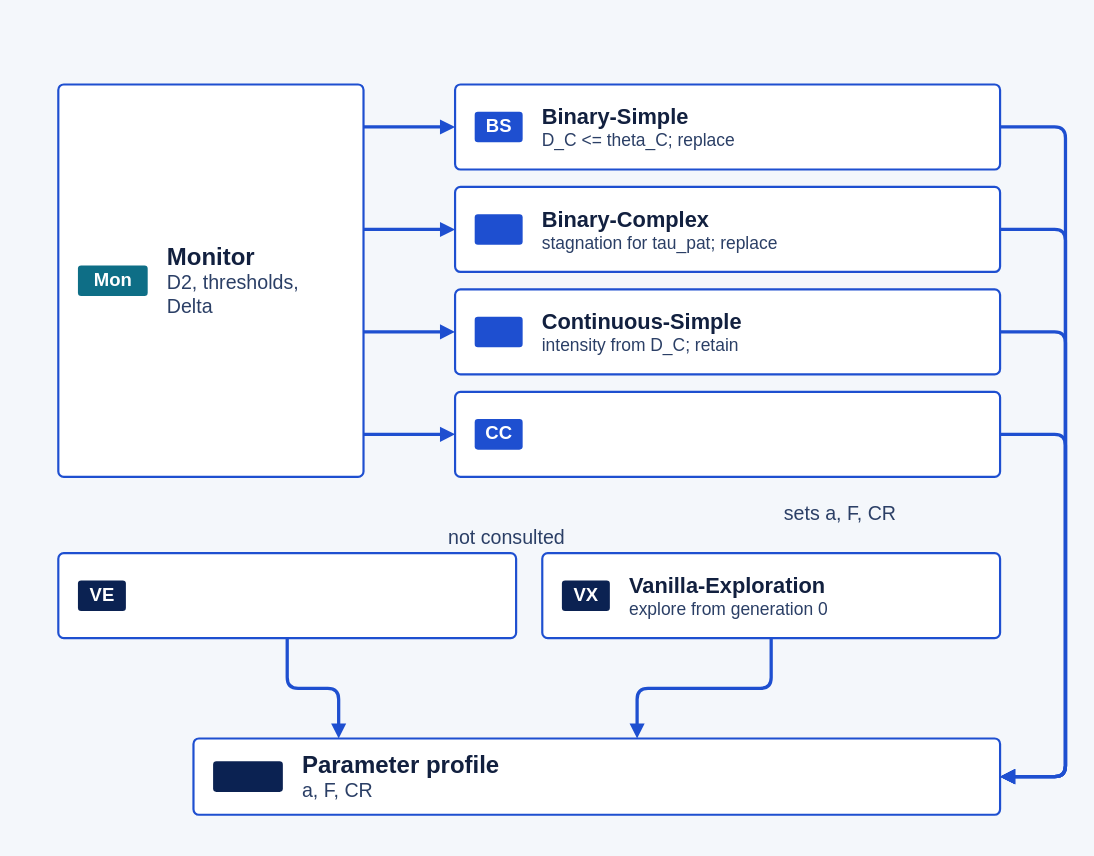
This 1094x856 diagram has some shape labels left out. The shapes that lost their labels are listed below. From the top down, each one's box as (x1, y1, x2, y2) in pixels, then its label:
(474, 214, 522, 244): BC
(474, 316, 522, 347): CS
(453, 390, 1001, 477): Continuous-Complex intensity from Delta; retain
(57, 552, 517, 639): Vanilla-Exploitation exploit from generation 0
(213, 761, 282, 791): Prof
